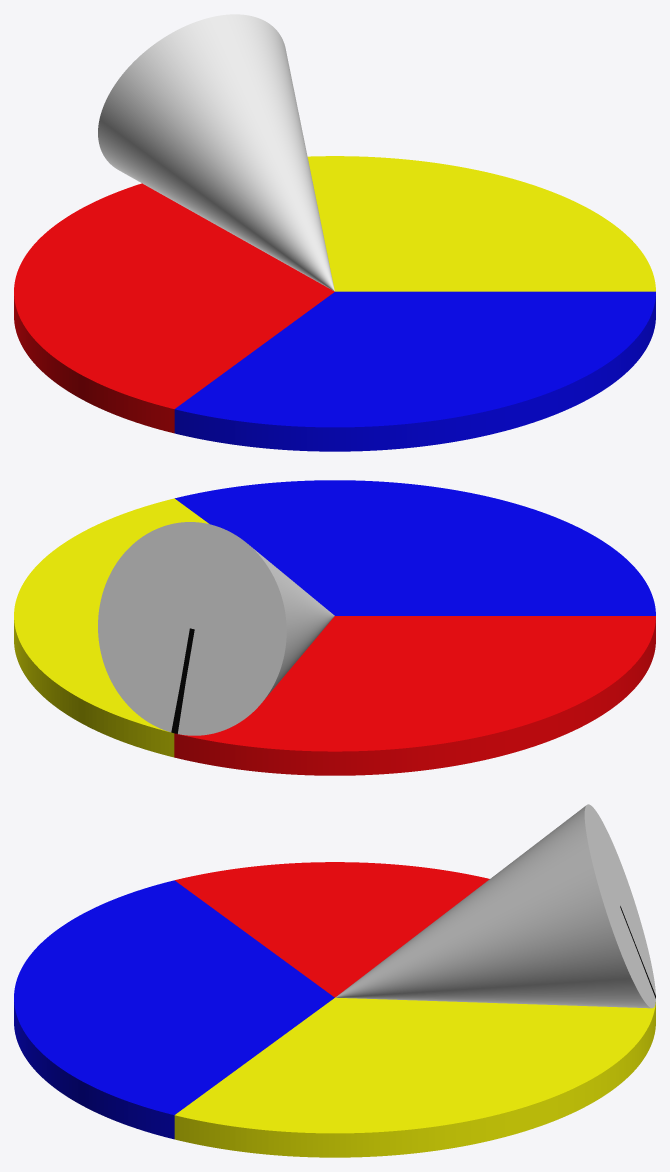
File: korokoro.glb
The picture shows the model from 3 angles, top to bottom: view 1: azimuth 30°, elevation 25°; view 2: azimuth 150°, elevation 25°; view 3: azimuth 270°, elevation 25°; orthographic projection.
Visible parts, largest first — view 1: 円, 円錐; view 2: 円, 円錐; view 3: 円, 円錐.
Boxes of the visible parts, x1,y1,x2,y2 form: 円: [14, 156, 655, 451]; 円錐: [98, 14, 334, 291]; 円: [14, 480, 655, 775]; 円錐: [98, 522, 334, 735]; 円: [14, 862, 655, 1157]; 円錐: [335, 804, 655, 1008].
Size of the model in its own units: 24 by 8.54 by 24.
